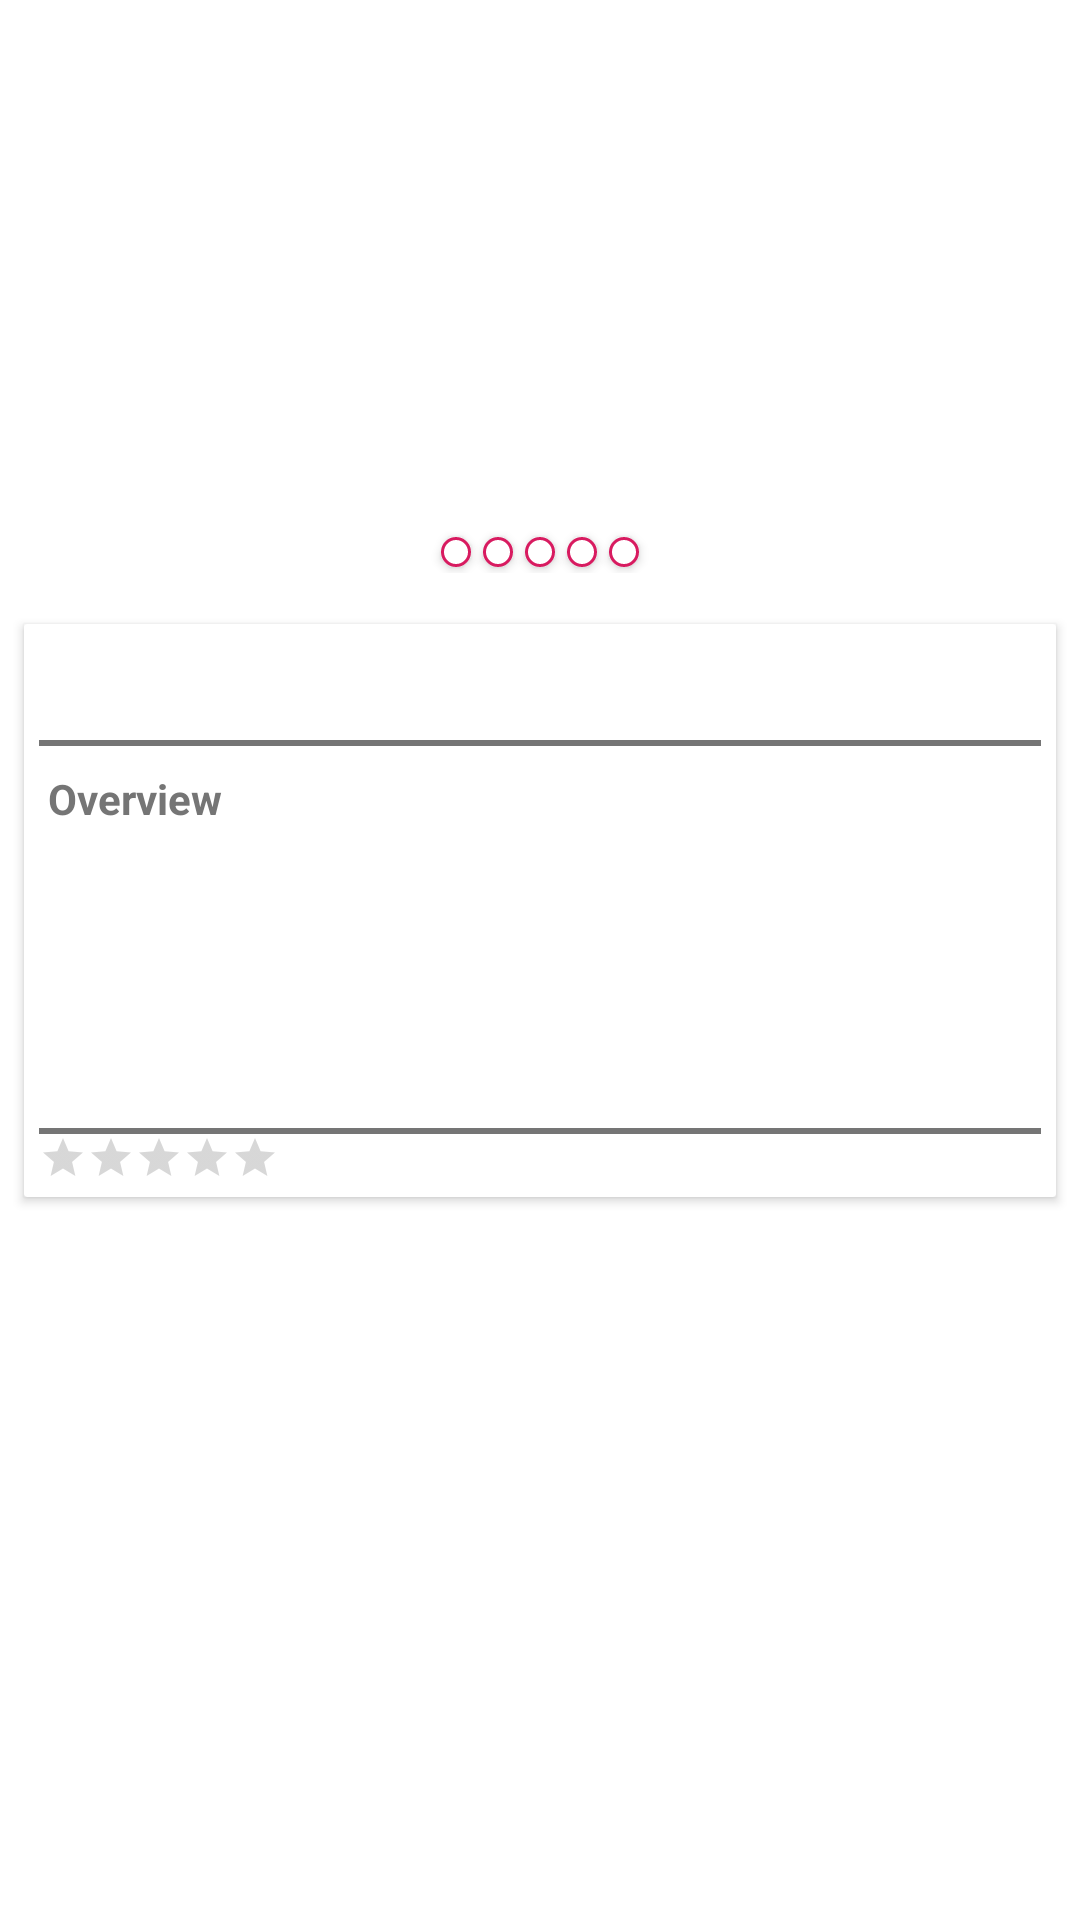

Icon bounding boxes for this 1080px×1920px phone screenshot, format (x1, y1, x2, y2):
dots indicator: (441, 537, 471, 567), (483, 537, 513, 567), (525, 537, 555, 567), (567, 537, 597, 567), (609, 537, 639, 567)
